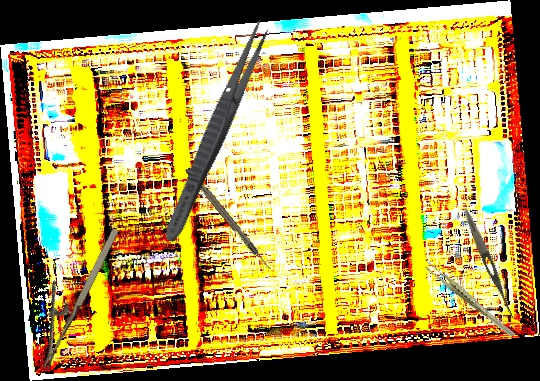Dressing Forceps: (158, 15, 275, 246), (460, 206, 519, 322)
Hook Surgical: (184, 166, 273, 272)
Needle Holder: (14, 215, 124, 370)
Tissue Forceps: (423, 248, 516, 352)
